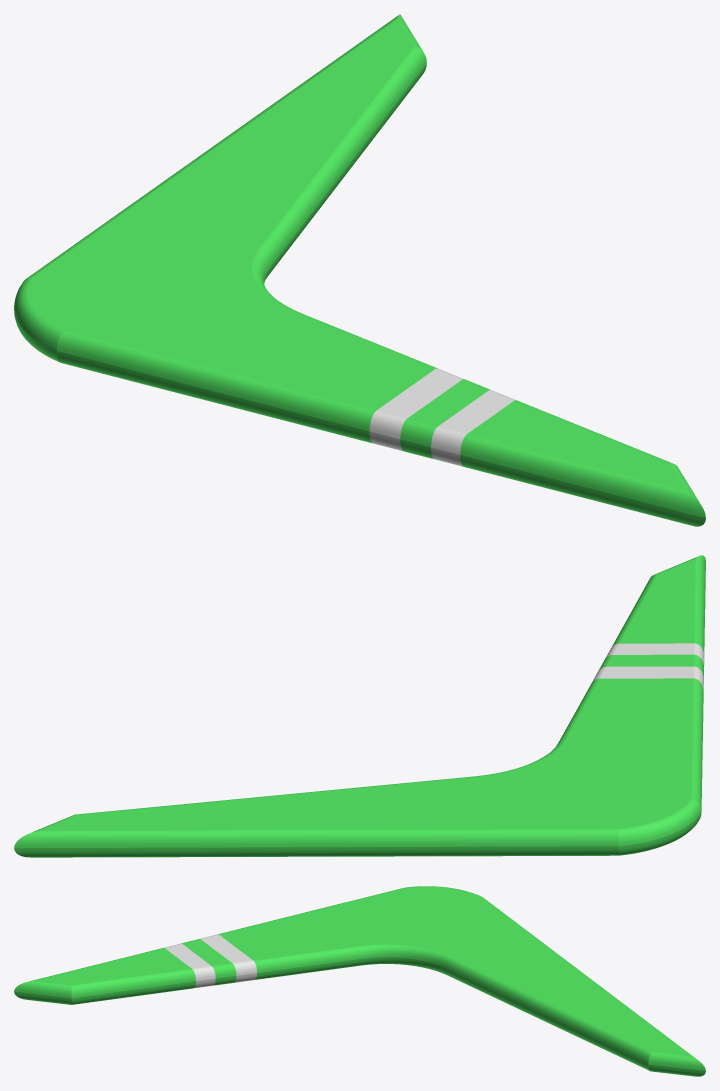
Rendered from boomerang.g.glb.
The picture shows the model from 3 angles, top to bottom: view 1: azimuth 30°, elevation 25°; view 2: azimuth 150°, elevation 25°; view 3: azimuth 270°, elevation 25°; orthographic projection. The views are drawn at different scales.
Visible parts, largest first — view 1: Main, White; view 2: Main, White; view 3: Main, White.
Part boxes in pixels (box(x1,y1,x2,y2)): Main: box(14, 14, 705, 526); White: box(369, 368, 515, 466); Main: box(14, 555, 705, 857); White: box(592, 643, 704, 688); Main: box(14, 886, 705, 1076); White: box(164, 934, 256, 988).
Bounding box in the file's own units: 0.3623 × 0.0222 × 0.6042.
